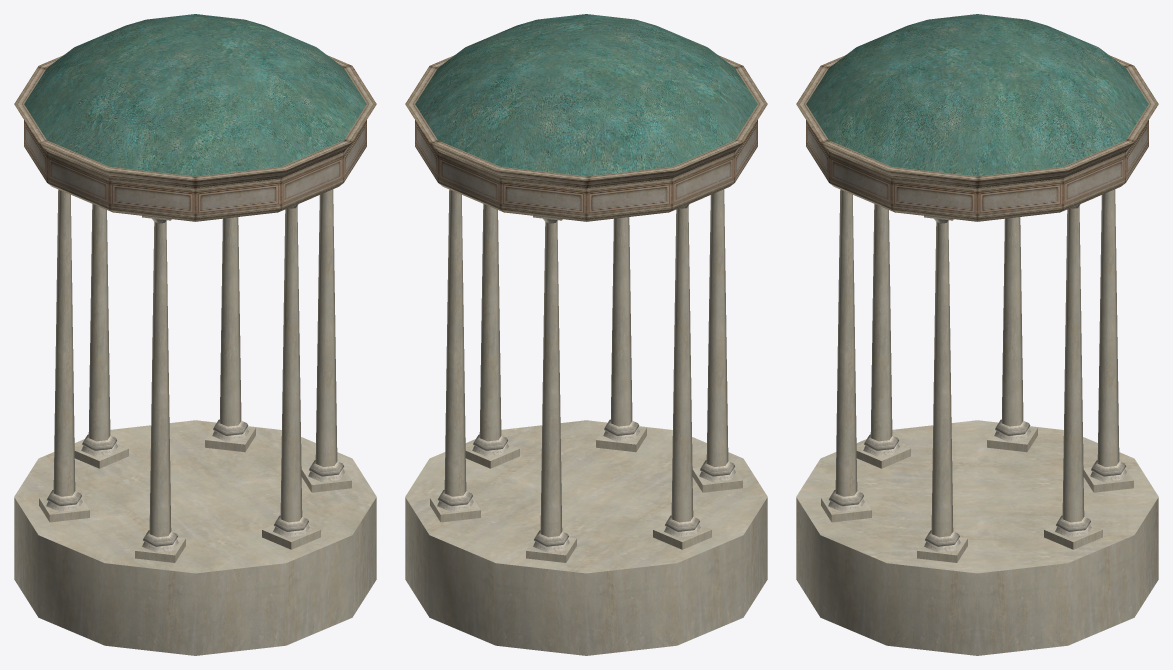
File: thm_nboo_imprv_garden_gazebo_lg_s01_l0.fbx
3 views of the same model, side by side, from view 1: azimuth 30°, elevation 25°; view 2: azimuth 150°, elevation 25°; view 3: azimuth 270°, elevation 25° (orthographic).
Parts seen in each view (by area): view 1: mesh_node; view 2: mesh_node; view 3: mesh_node.
Boxes of the visible parts, x1,y1,x2,y2 form: mesh_node: (14,14,376,655); mesh_node: (405,14,767,655); mesh_node: (796,14,1158,655).
Bounding box in the file's own units: 8.82 × 14.52 × 8.82.
